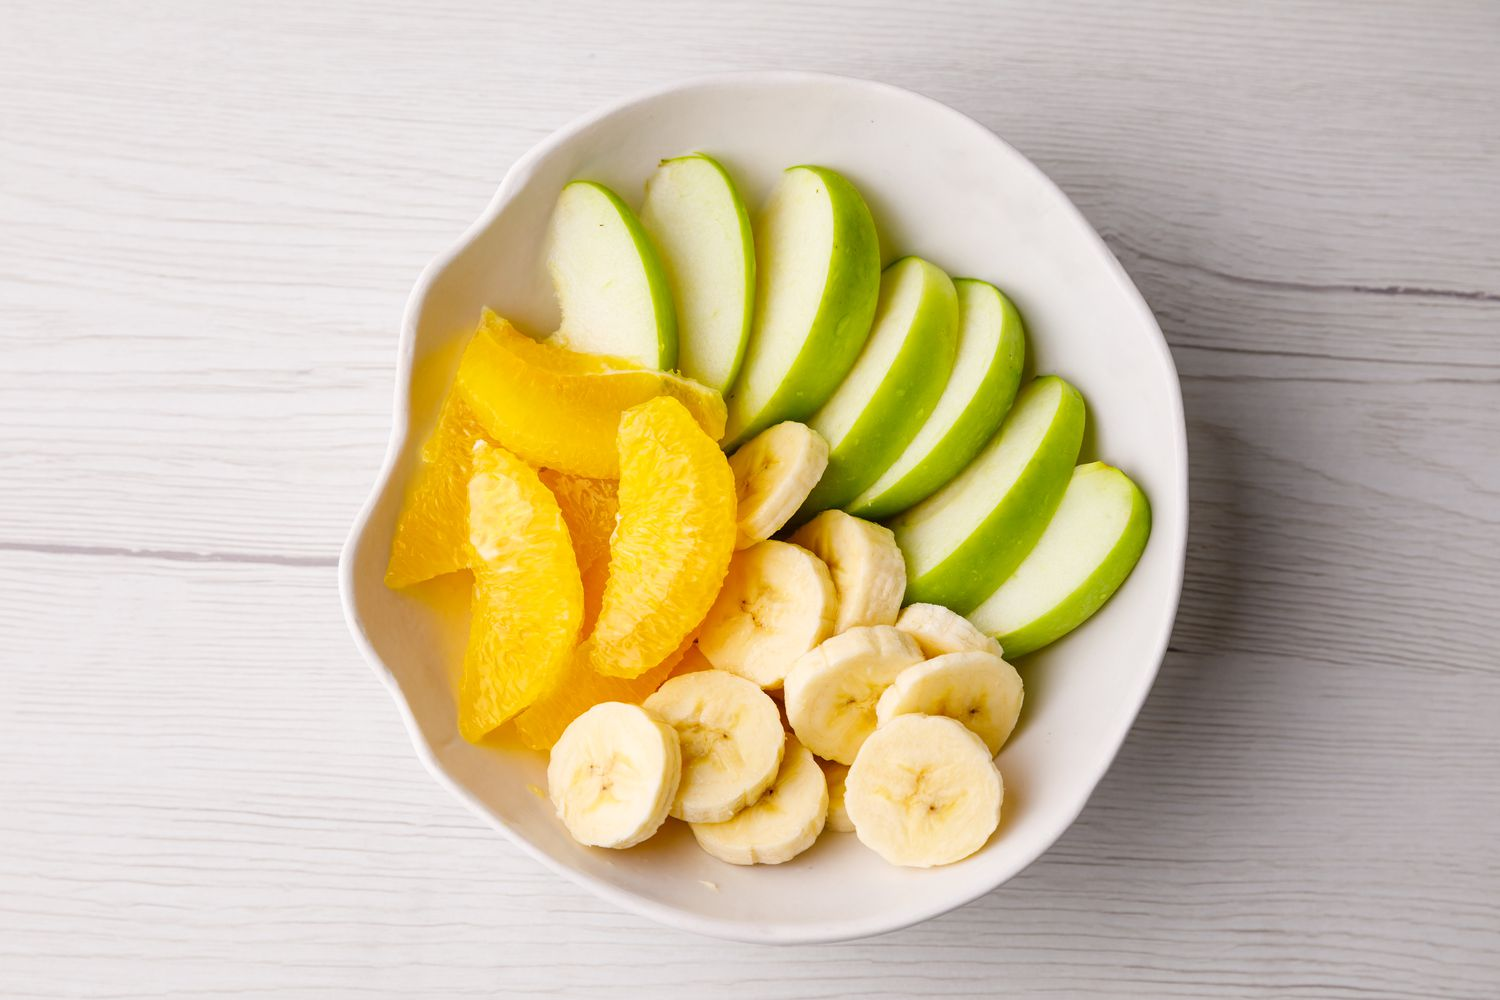banana: (646, 672, 831, 871), (848, 715, 1004, 864), (550, 702, 685, 857)
